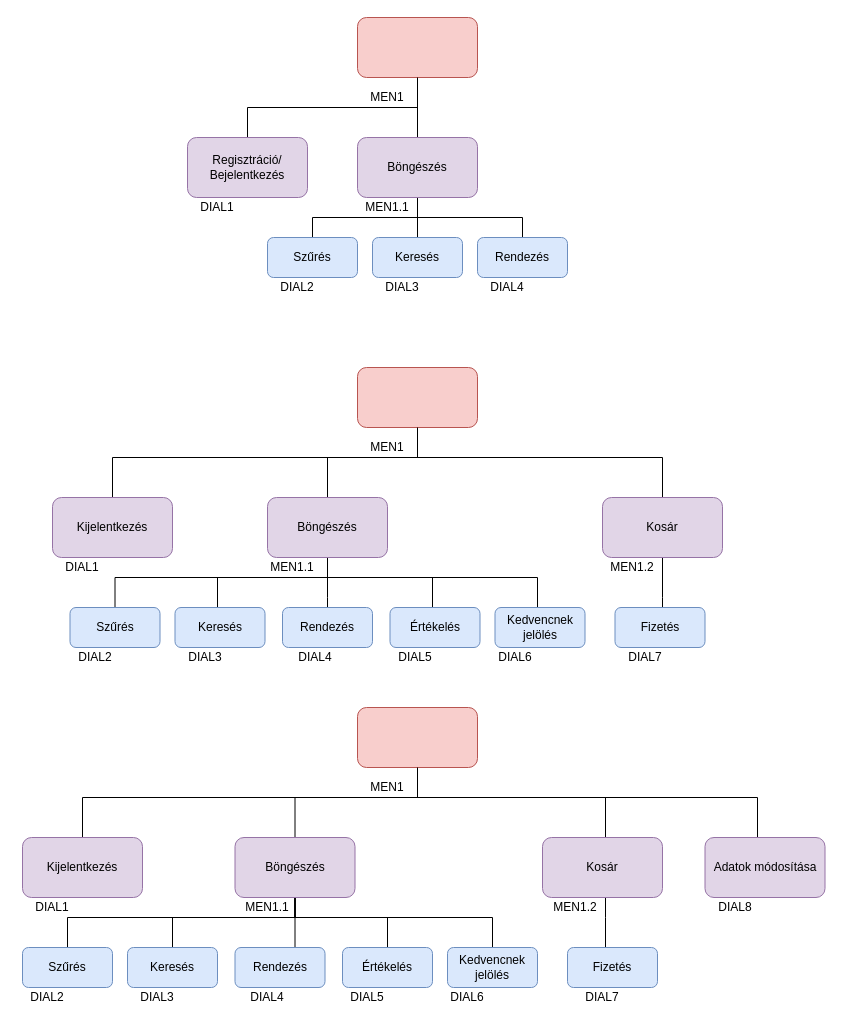
Image size: 842x1025. Some labels were removed from this diagram. The shapes that lost their labels are listed below. From the top down, each one's centre as x and y in pixels, then its label:
At point 417,47: "Vendég főmenü".
At point 417,397: "Felhasználó főmenü".
At point 417,737: "Adminisztrátor Főmenű".
